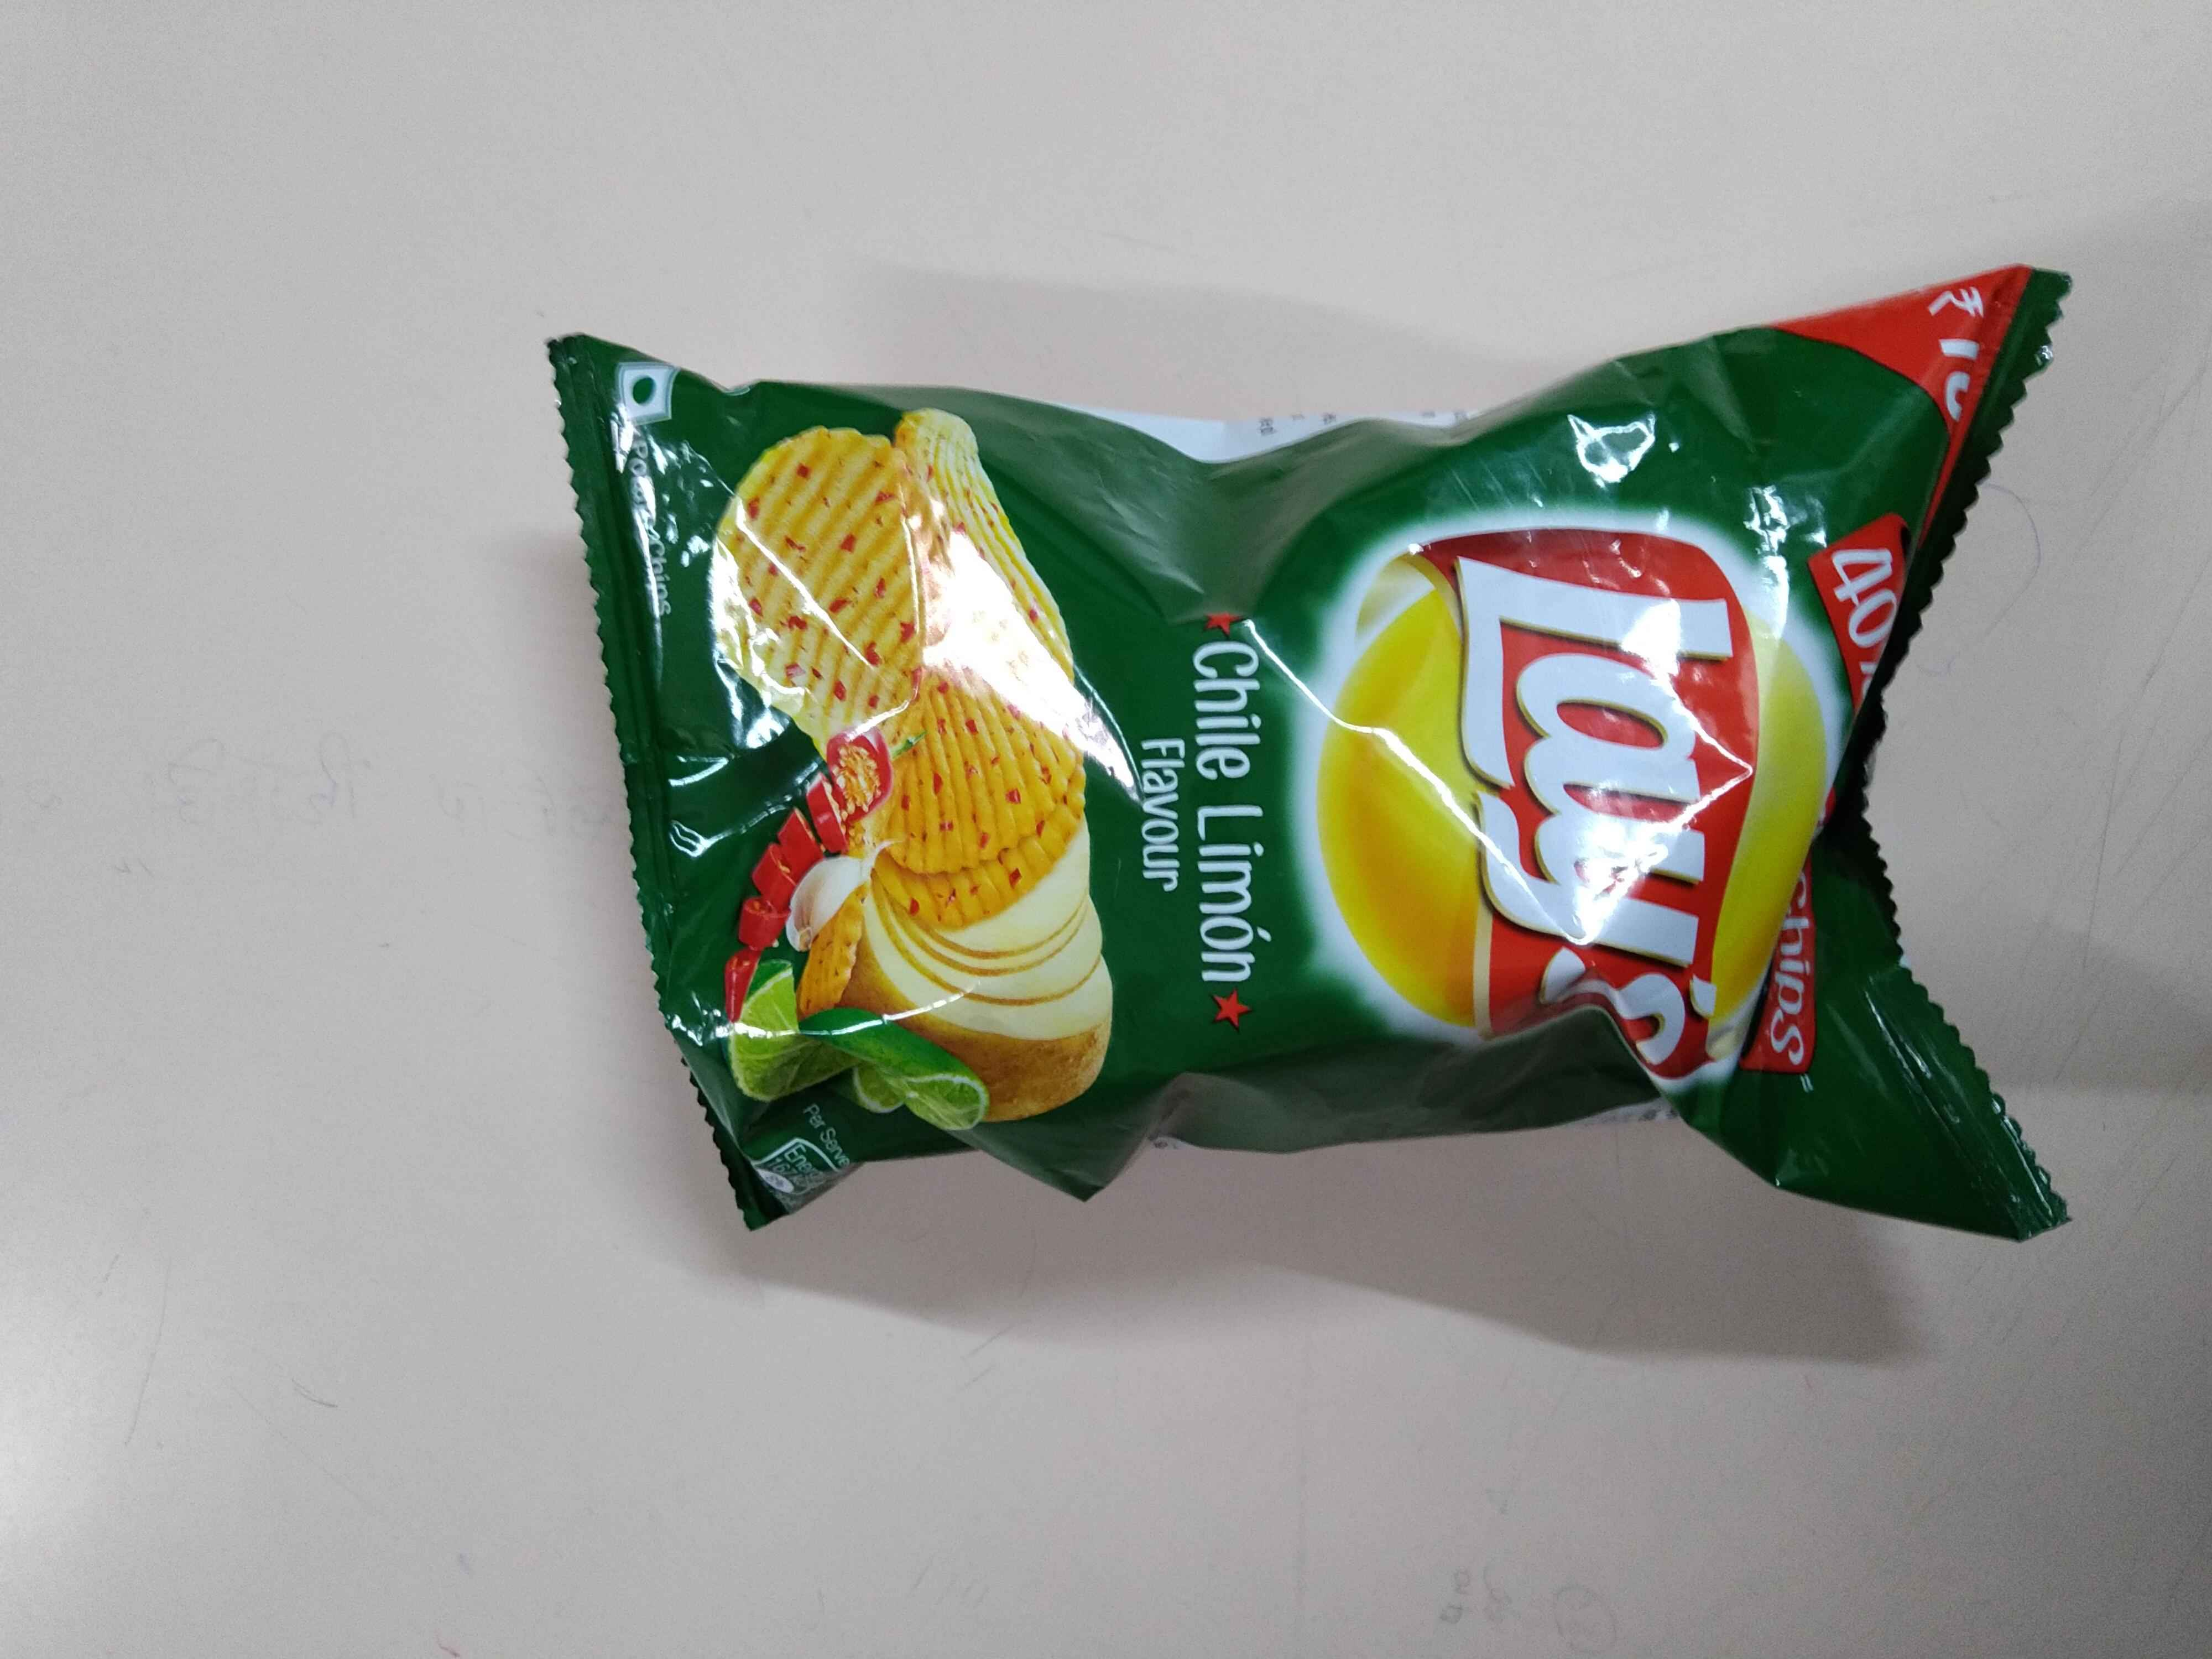Lays: (1320, 491, 1827, 1110)
